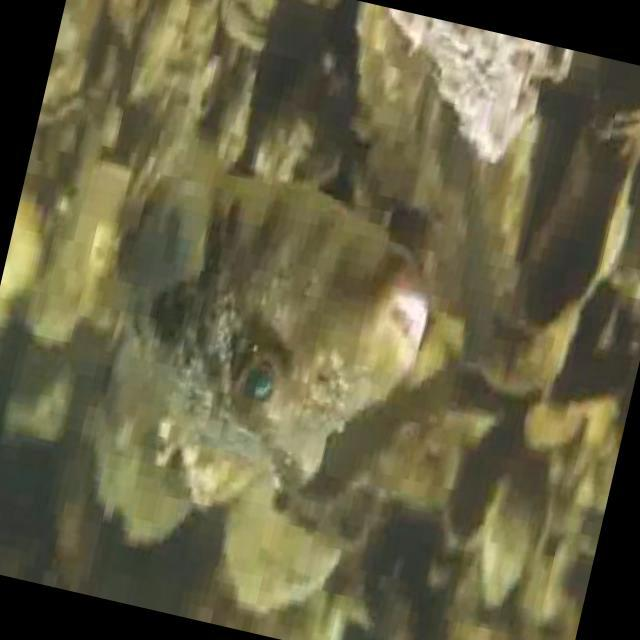Oyster-Closed: (473, 159, 582, 399), (389, 12, 562, 162), (22, 159, 130, 346), (229, 486, 347, 616), (483, 455, 547, 611), (217, 0, 349, 68), (40, 6, 104, 128), (118, 443, 191, 545), (0, 196, 57, 326), (591, 56, 640, 150), (187, 454, 250, 512), (90, 424, 122, 513)
Oyster-Open: (158, 425, 200, 476)
